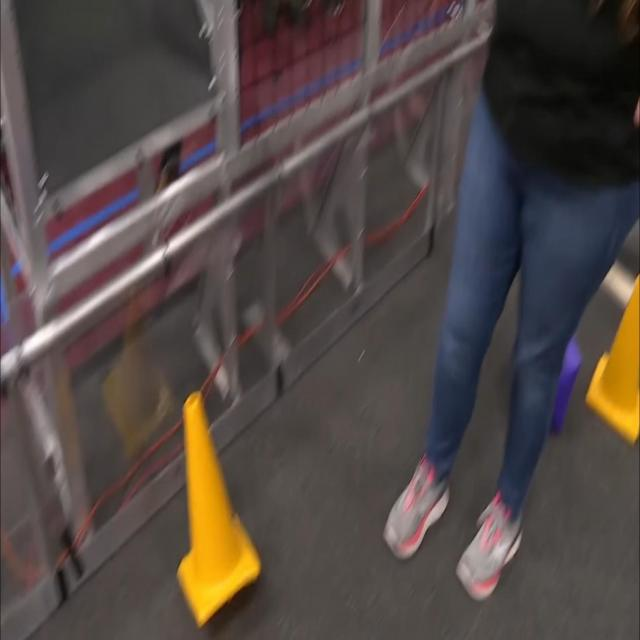frc_cone: (175, 393, 259, 622), (585, 262, 640, 445)
frc_cube: (552, 334, 581, 430)
